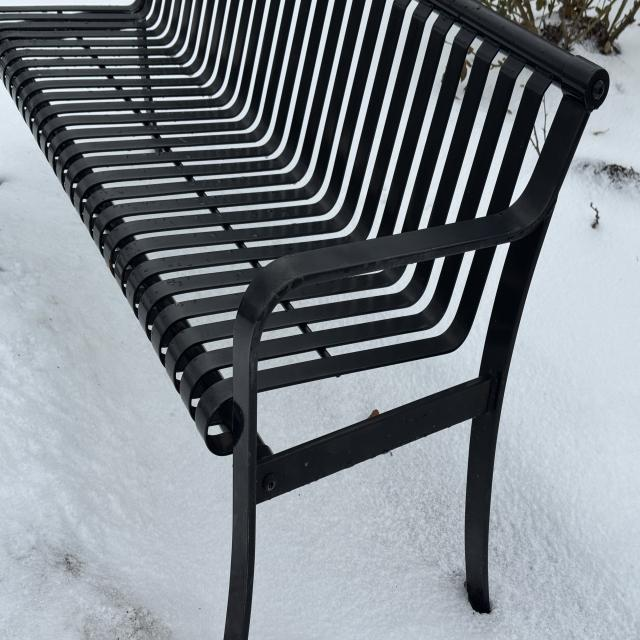Bench: (2, 8, 609, 640)
